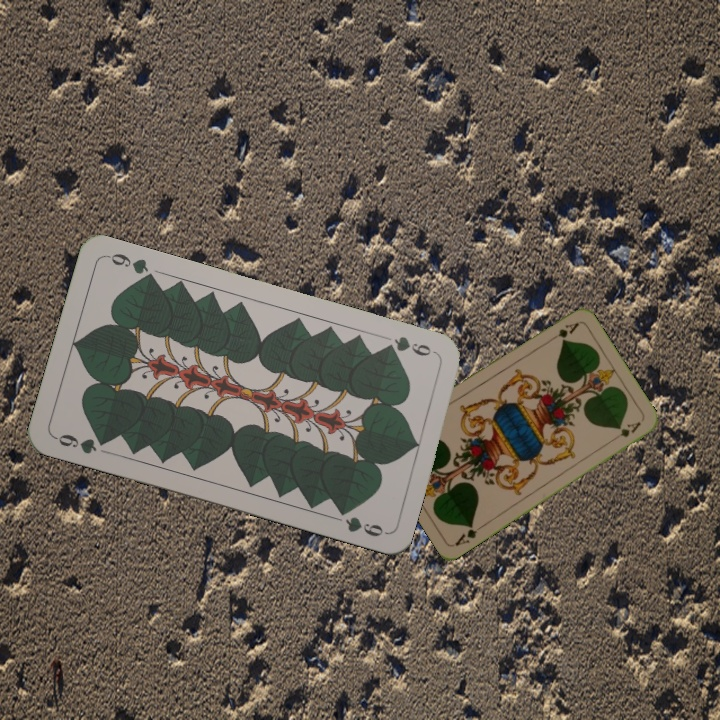G9: (50, 430, 111, 457), (379, 332, 439, 359)
GA: (451, 520, 487, 549), (554, 318, 581, 341)
